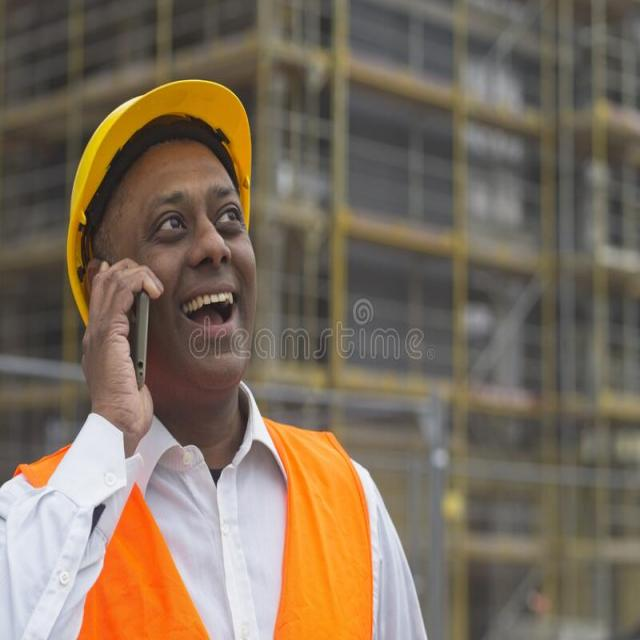Reflective-Jacket: (5, 404, 381, 640)
Safety-Helmet: (63, 73, 257, 243)
